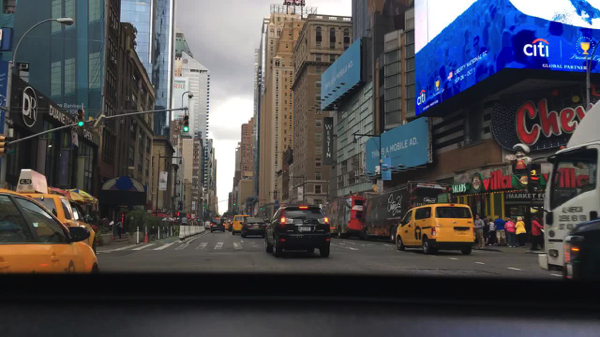bus: (537, 98, 599, 272)
car: (0, 188, 102, 274), (4, 167, 98, 252), (394, 202, 474, 255), (264, 204, 330, 257), (563, 211, 599, 284), (239, 217, 268, 238), (231, 214, 250, 235), (209, 216, 226, 233), (228, 217, 233, 232), (204, 220, 211, 229), (224, 221, 229, 230), (227, 217, 232, 223), (223, 216, 228, 221)
person: (528, 215, 545, 250), (503, 217, 517, 248), (513, 215, 526, 248), (474, 213, 485, 250), (494, 215, 506, 246), (480, 213, 491, 246), (487, 217, 498, 246), (113, 218, 123, 240), (538, 216, 544, 250), (103, 216, 111, 230)
rider: (180, 216, 189, 226), (190, 218, 197, 226), (186, 218, 193, 226), (198, 220, 204, 226)
traffic light: (0, 134, 9, 156), (77, 109, 86, 129), (182, 116, 190, 131), (202, 201, 207, 209), (233, 201, 236, 206)
traffic sign: (158, 170, 169, 191), (71, 129, 79, 147), (4, 117, 15, 127), (376, 179, 383, 194), (297, 187, 303, 202), (6, 147, 17, 154)
truck: (359, 180, 453, 244), (321, 193, 371, 241)
